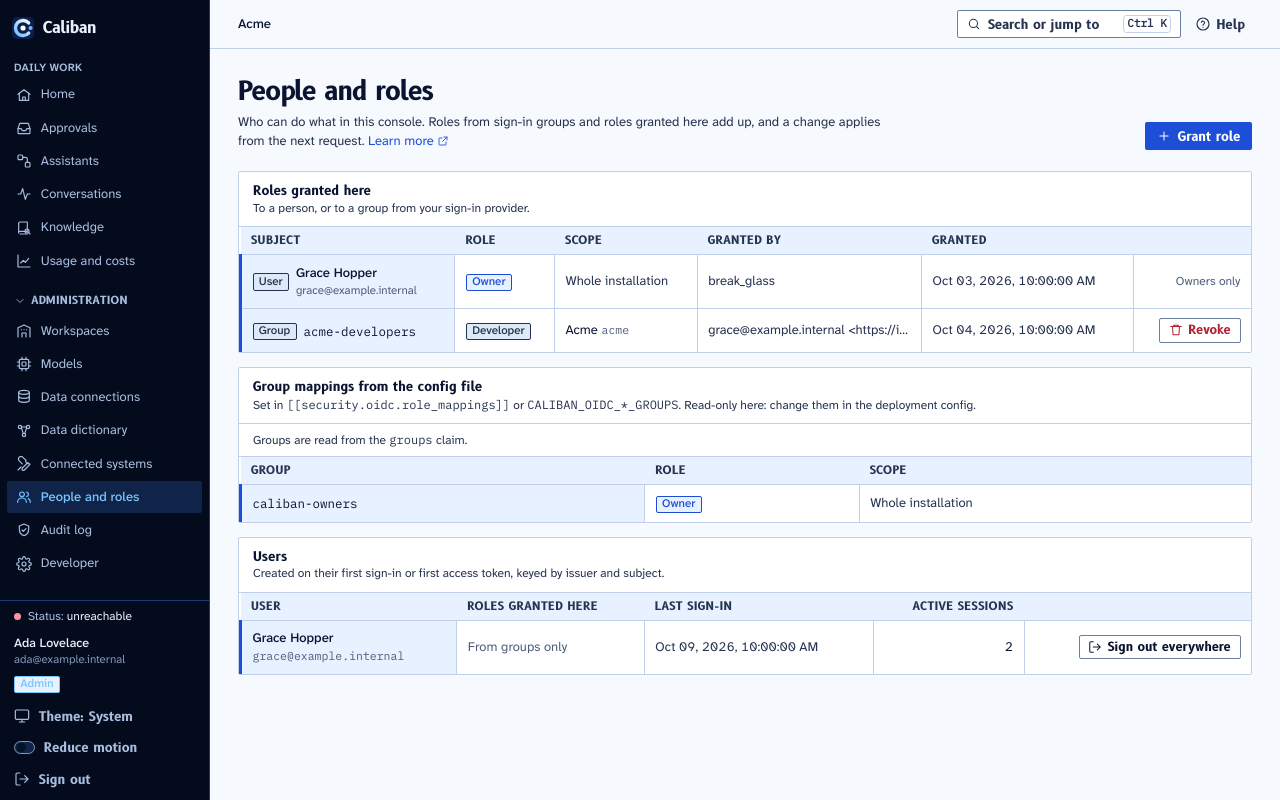
it: People and roles page › grants a tenant role to a user, with the CSRF token
The image size is (1280, 800).
Click the button "Grant role" at point(1199, 136), box [1145,122,1252,150]
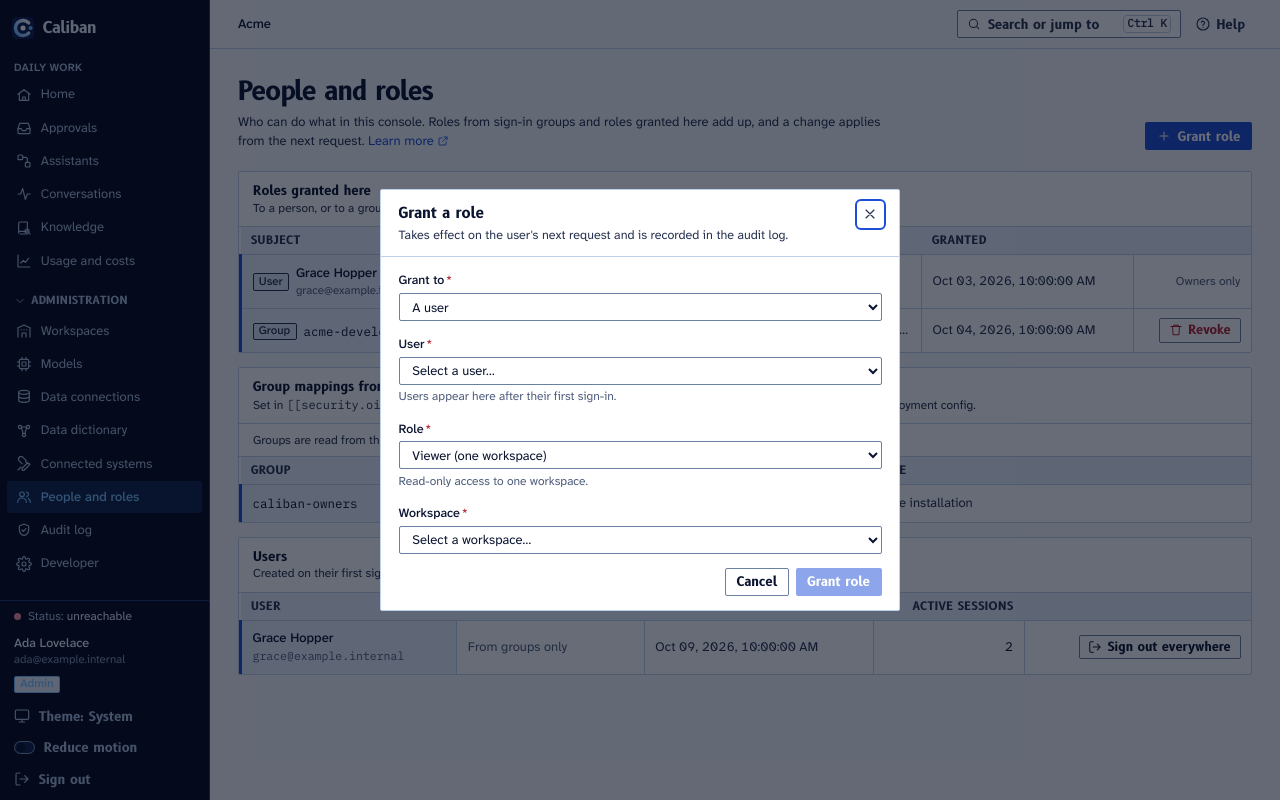
# Deployment roles take no tenant.
Select "Admin (whole installation)" in the dropdown labelled "Role*" at point(640, 455), box [398,441,882,469]
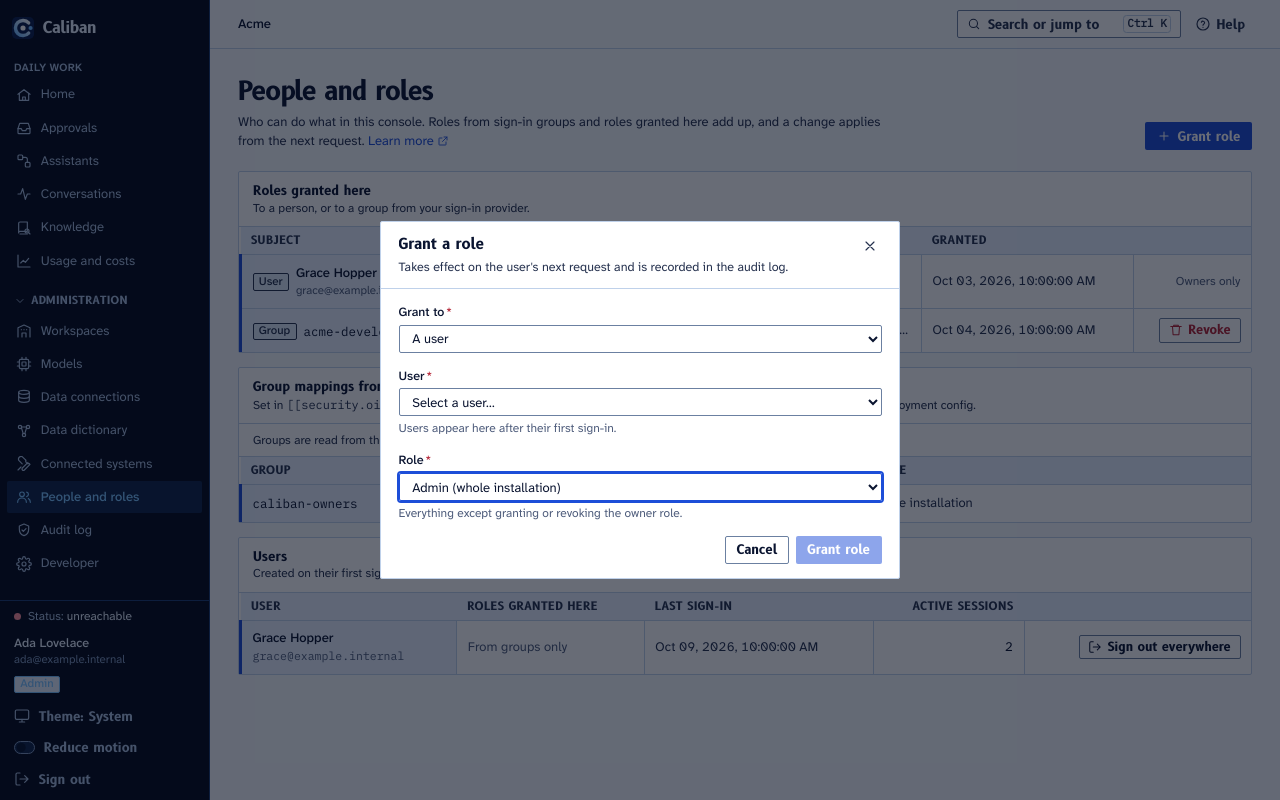
Select "Grace Hopper (grace@example.internal)" in the dropdown labelled "User*" at point(640, 402), box [398,388,882,416]
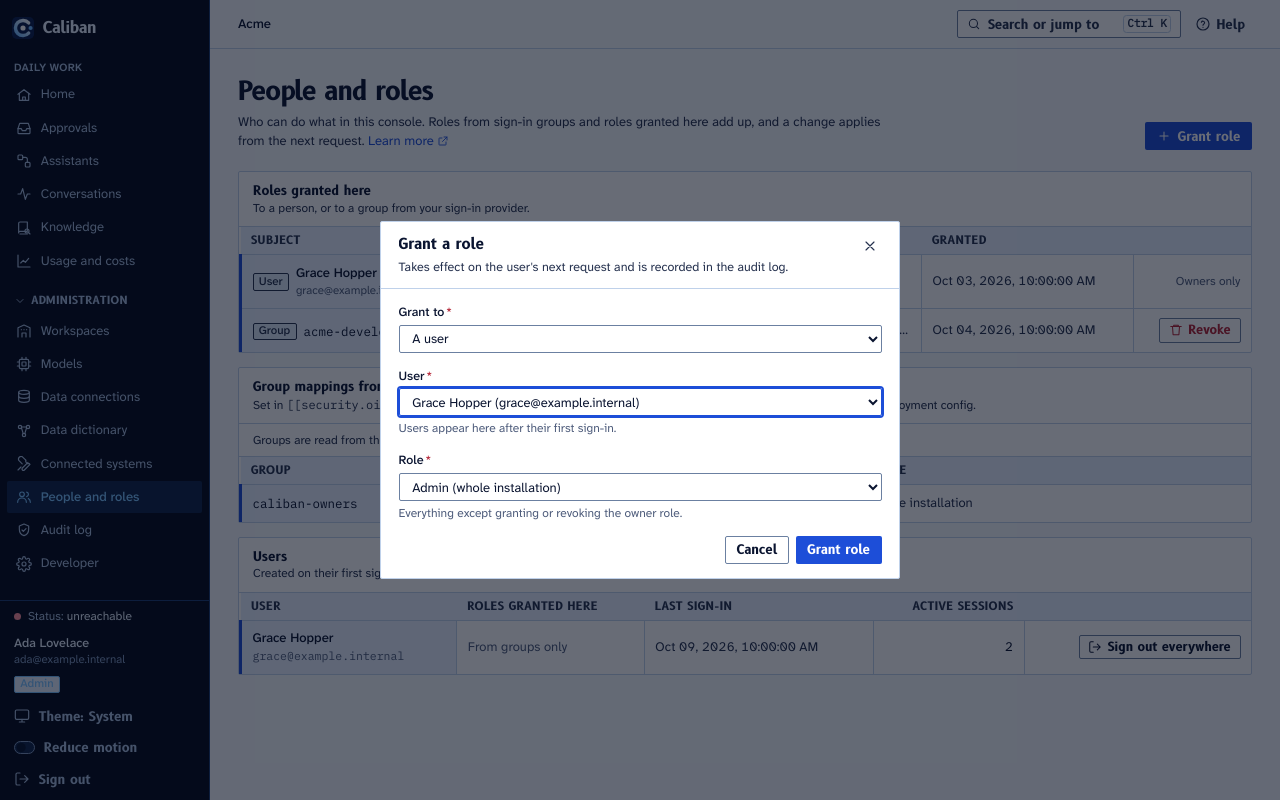
Select "Developer (one workspace)" in the dropdown labelled "Role*" at point(640, 487), box [398,473,882,501]
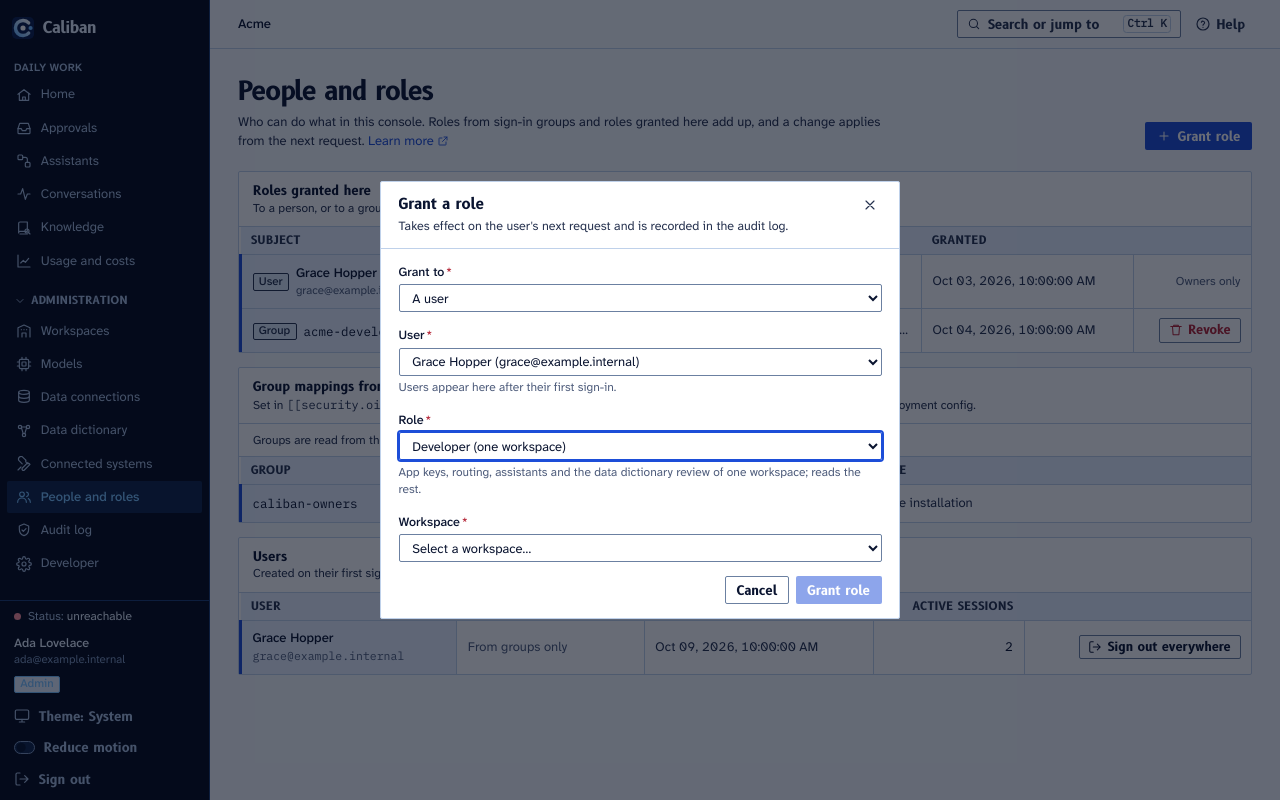
expect the button "Grant role" is disabled: met, box [796,576,882,604]
Select "Acme" in the dropdown labelled "Workspace*" at point(640, 548), box [398,534,882,562]
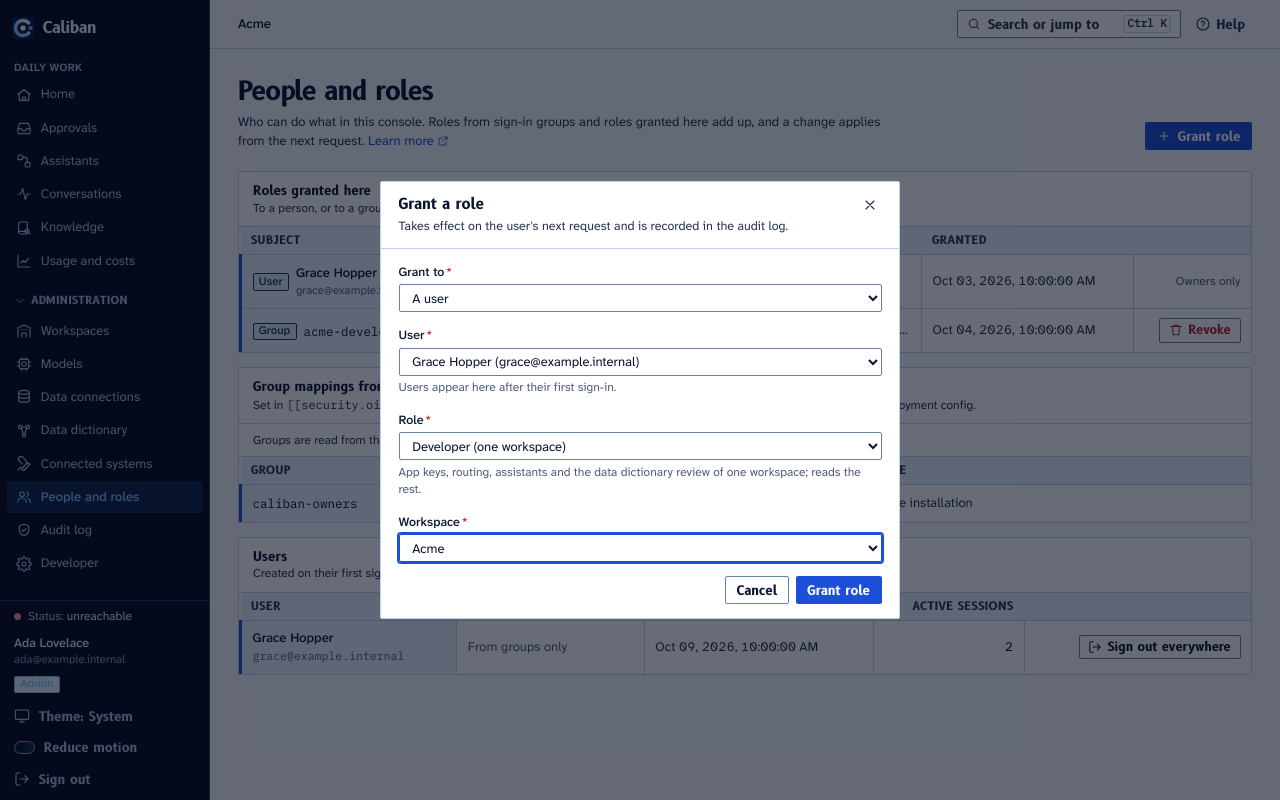
Click the button "Grant role" at point(839, 590), box [796,576,882,604]
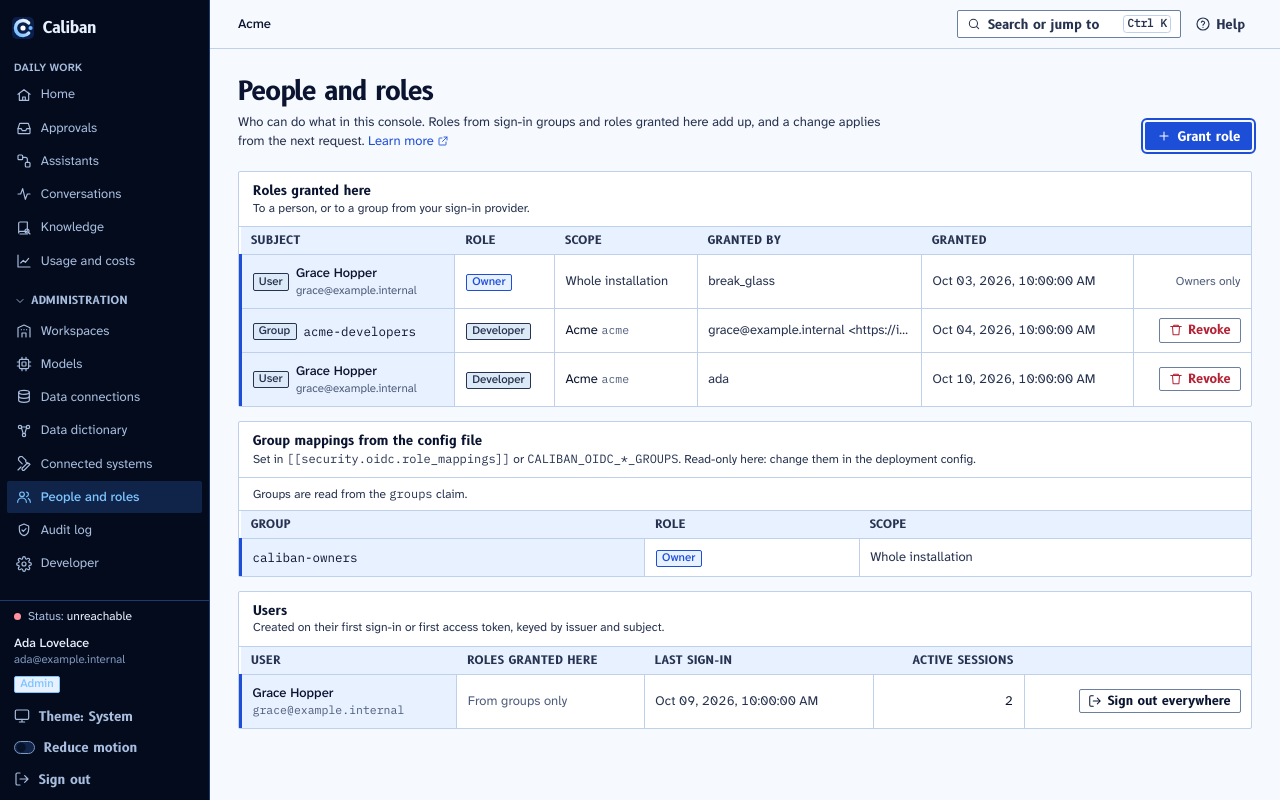
expect the heading "Grant a role" is gone: met
